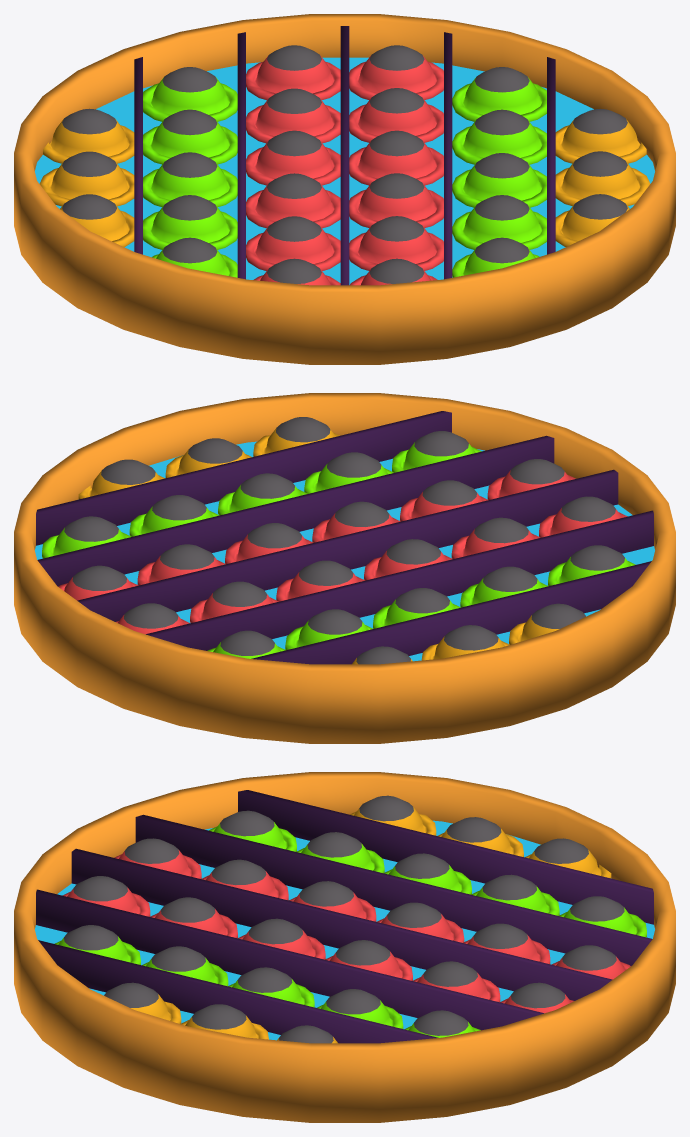
Rendered from Toy64.fbx.
3 renders of one model, top to bottom at view 1: azimuth 30°, elevation 25°; view 2: azimuth 150°, elevation 25°; view 3: azimuth 270°, elevation 25°, orthographic.
Visible parts, largest first — view 1: Toy64; view 2: Toy64; view 3: Toy64.
Part boxes in pixels (x1=…): Toy64: x1=14, y1=14, x2=675, y2=364; Toy64: x1=14, y1=393, x2=675, y2=743; Toy64: x1=14, y1=772, x2=675, y2=1122.
Size of the model in its own units: 0.1408 by 0.0172 by 0.1415.
